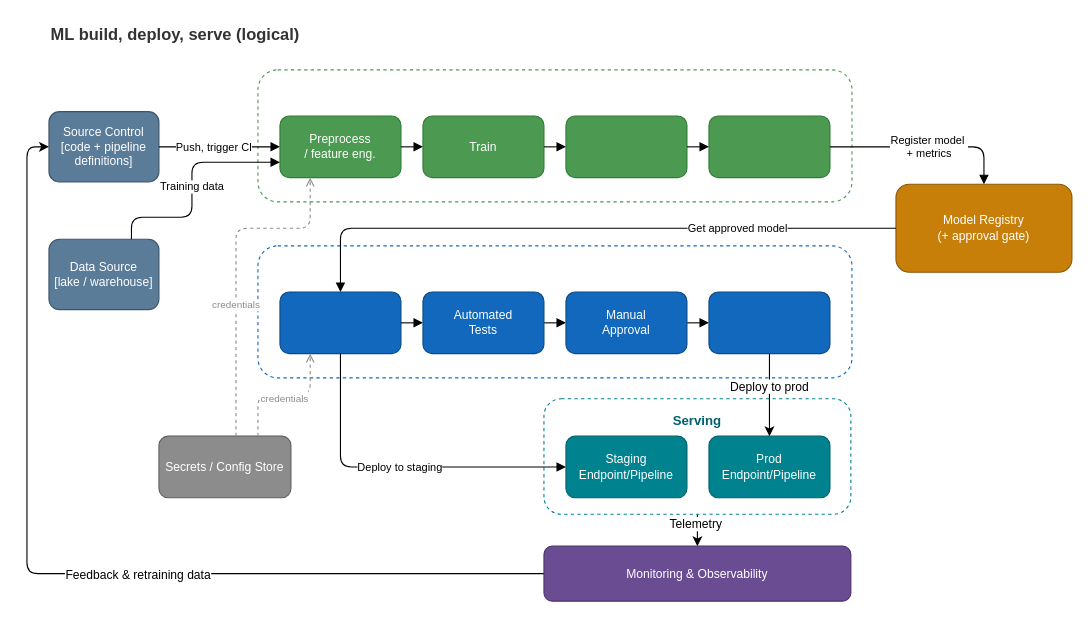
Image size: 1091x620. Some labels were removed from this diagram. Here are the shapes that lost their labels. From the top down, the box of each, then its label:
(257, 69, 852, 202): Model Build Workflow (CI)
(565, 115, 687, 178): Evaluate
(708, 115, 830, 178): Register
(279, 291, 401, 354): Staging Deploy
(257, 245, 852, 378): Model Deploy Workflow (CD)
(708, 291, 830, 354): Prod Deploy
